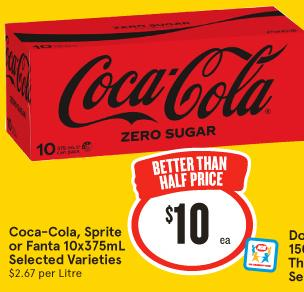description_block: (3, 221, 133, 268)
price_main: (147, 196, 245, 262)
product_image_block: (4, 10, 304, 162)
promo_text_block: (134, 157, 253, 193)
unit_price_block: (3, 264, 89, 284)
